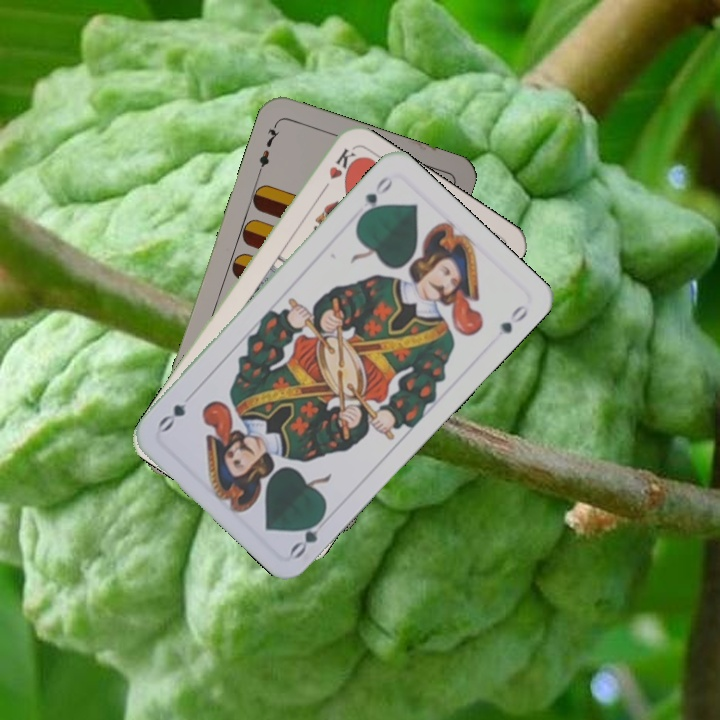E7: (254, 119, 282, 176)
GO: (286, 508, 328, 561), (355, 172, 395, 222)
HK: (316, 143, 358, 198)
